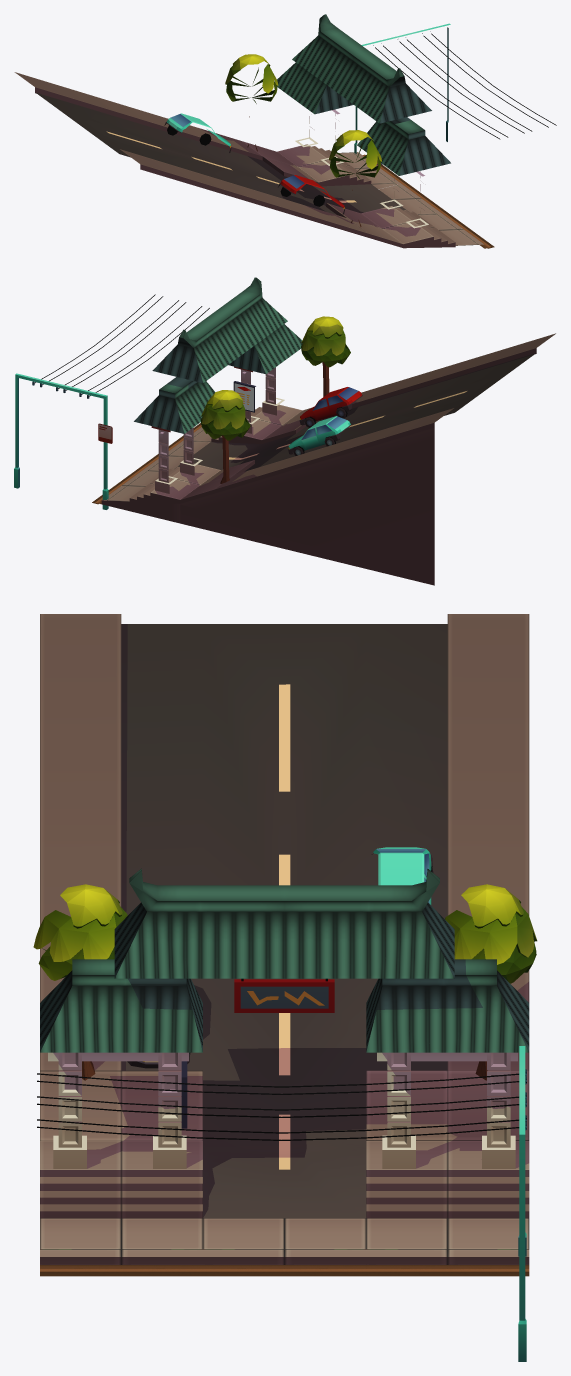
Rendered from 1.100_SanFrancisco_med_02_right.glb.
3 renders of one model, top to bottom at view 1: azimuth 30°, elevation 25°; view 2: azimuth 150°, elevation 25°; view 3: azimuth 270°, elevation 25°, orthographic. The views are drawn at different scales.
Visible parts, largest first — view 1: 1.100_SanFrancisco_med_02_right; view 2: 1.100_SanFrancisco_med_02_right; view 3: 1.100_SanFrancisco_med_02_right.
Part boxes in pixels (<box>): 1.100_SanFrancisco_med_02_right: <box>14,14,556,248</box>; 1.100_SanFrancisco_med_02_right: <box>14,277,555,585</box>; 1.100_SanFrancisco_med_02_right: <box>33,614,537,1361</box>.
Bounding box in the file's own units: 358 × 142 × 185.
2 materials, 2 textured.
